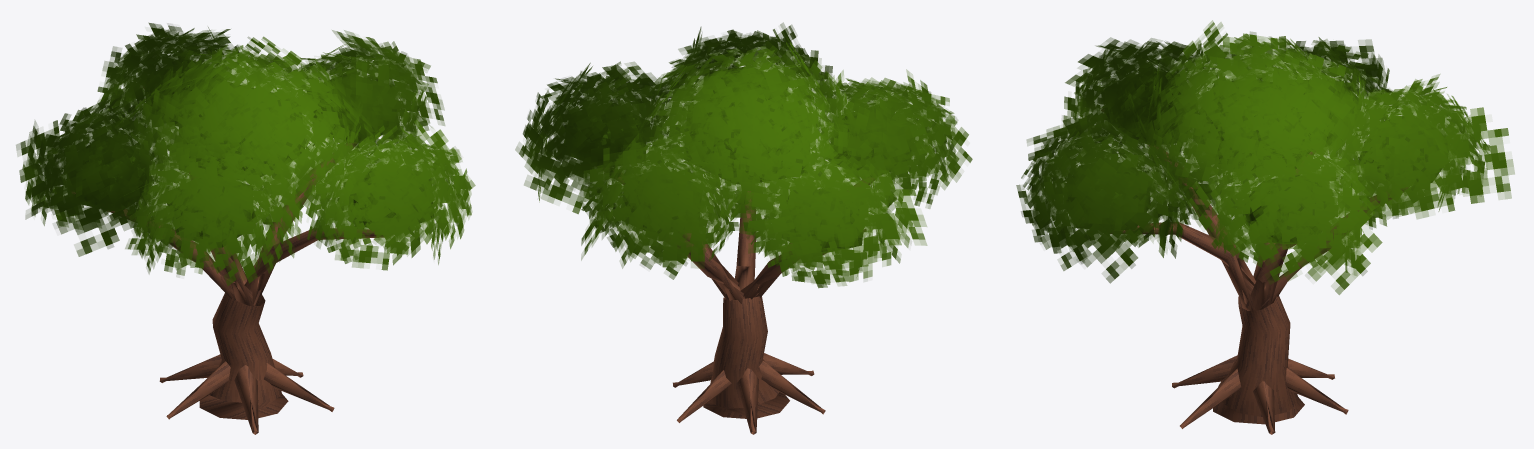
Rendered from oak_old.glb.
3 renders of one model, left to right at view 1: azimuth 30°, elevation 25°; view 2: azimuth 150°, elevation 25°; view 3: azimuth 270°, elevation 25°, orthographic. The views are drawn at different scales.
Visible parts, largest first — view 1: oak_old_Leaf_Dark, oak_old_Bark_Dark, oak_old_Core_Dark; view 2: oak_old_Leaf_Dark, oak_old_Bark_Dark, oak_old_Core_Dark; view 3: oak_old_Leaf_Dark, oak_old_Bark_Dark, oak_old_Core_Dark.
Boxes of the visible parts, x1=… form: oak_old_Leaf_Dark: x1=16, y1=23, x2=475, y2=285; oak_old_Bark_Dark: x1=72, y1=87, x2=383, y2=434; oak_old_Core_Dark: x1=68, y1=62, x2=433, y2=247; oak_old_Leaf_Dark: x1=515, y1=22, x2=972, y2=288; oak_old_Bark_Dark: x1=618, y1=177, x2=874, y2=434; oak_old_Core_Dark: x1=564, y1=67, x2=914, y2=253; oak_old_Leaf_Dark: x1=1016, y1=20, x2=1514, y2=294; oak_old_Bark_Dark: x1=1101, y1=110, x2=1407, y2=434; oak_old_Core_Dark: x1=1066, y1=71, x2=1447, y2=243.
Bounding box in the file's own units: 11.63 × 9.92 × 12.04.
Materials: 3 (2 with a texture image).
